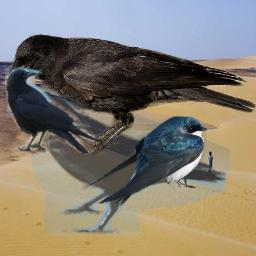Crow: (7, 89, 230, 236), (1, 33, 256, 156), (5, 65, 95, 157)
Swallow: (82, 115, 207, 206)
